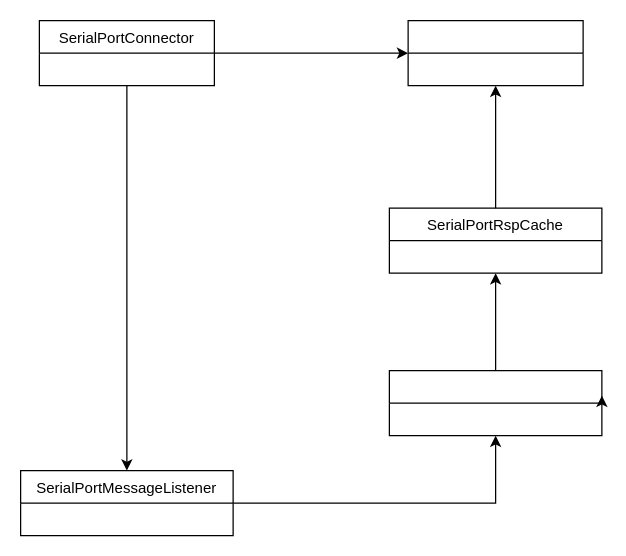
This 626x556 diagram has some shape labels left out. Each missing label, with the centre of its shape:
SerialPortDispatcher: the point at 495,402
SerialPortSignal: the point at 495,52
